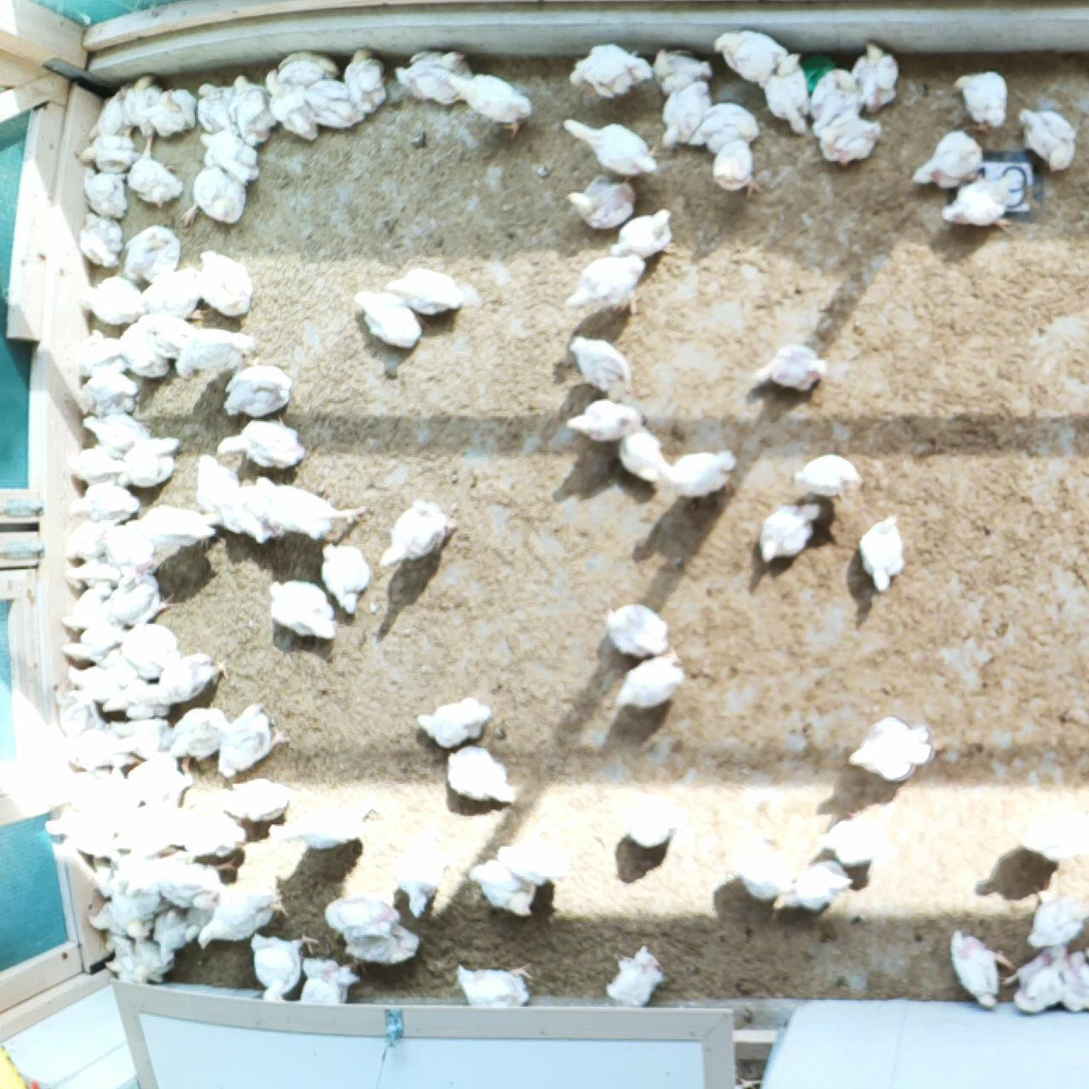chicken: (557, 112, 661, 182), (845, 709, 940, 784), (196, 876, 293, 949), (218, 694, 294, 785), (375, 496, 462, 573), (261, 476, 369, 538), (940, 924, 1016, 1011), (812, 800, 898, 869), (374, 265, 482, 318), (214, 414, 311, 473), (262, 574, 342, 645), (561, 40, 655, 100), (394, 830, 456, 920), (446, 71, 533, 135), (249, 927, 322, 1003), (438, 742, 523, 807), (849, 510, 912, 596), (142, 649, 234, 707), (347, 283, 422, 354), (565, 328, 641, 398), (565, 254, 649, 317), (935, 173, 1019, 236), (757, 48, 817, 136), (390, 45, 476, 106), (1020, 877, 1089, 953), (216, 352, 298, 415), (908, 128, 986, 194), (1010, 797, 1089, 862), (1014, 102, 1082, 177), (41, 797, 121, 860), (268, 805, 366, 856), (154, 850, 240, 907), (561, 170, 639, 231), (165, 705, 231, 777), (127, 132, 186, 212), (611, 653, 687, 715), (772, 860, 859, 914), (261, 67, 321, 144), (494, 830, 575, 887), (179, 167, 252, 230), (104, 565, 175, 629), (410, 694, 494, 748), (467, 857, 539, 920), (750, 338, 834, 392), (124, 753, 197, 815), (663, 444, 741, 502), (196, 245, 257, 319), (319, 536, 372, 621), (711, 23, 790, 80), (175, 327, 259, 380), (451, 958, 542, 1006), (950, 66, 1016, 132), (757, 499, 824, 564), (603, 598, 673, 660), (1006, 945, 1067, 1016), (687, 99, 765, 154), (174, 808, 251, 863), (616, 790, 684, 852), (69, 272, 145, 327), (558, 397, 645, 445), (117, 433, 187, 492), (60, 723, 138, 774), (125, 503, 222, 544), (141, 263, 208, 322), (659, 77, 714, 148), (121, 619, 182, 683), (610, 201, 677, 259), (196, 127, 264, 184), (207, 776, 293, 821), (852, 36, 904, 110), (604, 943, 665, 1006), (727, 849, 795, 905), (794, 447, 867, 499), (816, 110, 884, 165), (227, 71, 277, 145), (713, 136, 769, 202), (322, 889, 401, 935), (58, 615, 124, 670), (614, 420, 669, 486), (119, 71, 160, 158), (121, 222, 181, 281), (119, 802, 181, 859), (137, 308, 198, 365), (222, 481, 275, 546), (650, 43, 715, 96), (80, 411, 153, 457), (68, 483, 141, 529), (83, 890, 155, 935), (295, 951, 359, 1001), (99, 677, 170, 722), (84, 81, 135, 143), (808, 64, 859, 125), (344, 924, 423, 963), (78, 164, 132, 221), (117, 322, 171, 379), (72, 209, 124, 268), (108, 716, 176, 761), (75, 374, 141, 418), (68, 327, 126, 377), (341, 46, 385, 111), (194, 447, 238, 511), (61, 583, 114, 636), (65, 442, 131, 483), (78, 130, 142, 170), (149, 86, 198, 138), (63, 663, 125, 702), (1052, 947, 1089, 1012), (273, 46, 341, 81), (101, 526, 155, 569), (53, 687, 107, 730), (129, 935, 175, 985), (63, 514, 114, 558), (192, 80, 236, 129), (151, 906, 189, 958), (117, 851, 158, 895), (67, 555, 123, 584), (103, 936, 137, 981), (90, 856, 117, 894), (182, 906, 211, 941)
